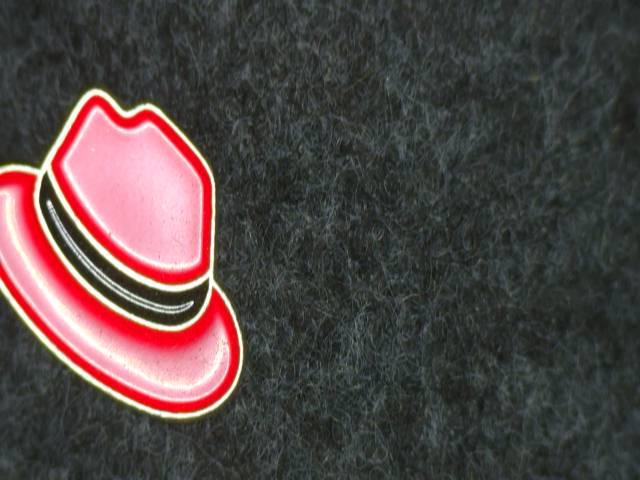Red-Hat: (0, 71, 296, 443)
